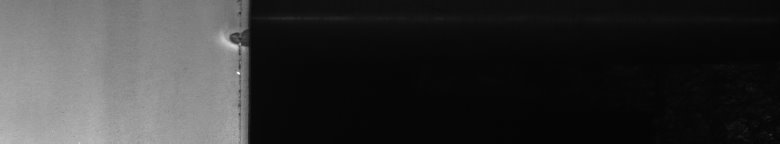hb: (217, 22, 236, 56)
